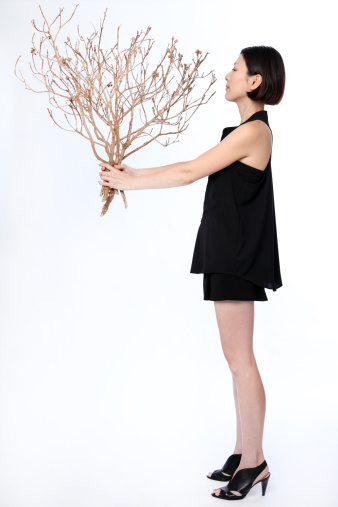em pe: (119, 30, 284, 507)
